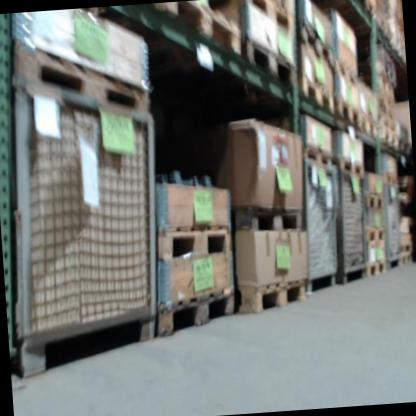pallet: (10, 36, 155, 124), (144, 0, 244, 64), (150, 287, 239, 340), (154, 220, 237, 264), (234, 274, 313, 318), (232, 201, 308, 241), (243, 35, 299, 88), (296, 20, 338, 71), (299, 77, 338, 119), (243, 0, 294, 31), (302, 145, 339, 179), (335, 93, 358, 131), (360, 257, 389, 280), (339, 156, 366, 178), (339, 61, 361, 86), (361, 221, 389, 239), (360, 114, 378, 142), (364, 191, 386, 212), (379, 169, 402, 188), (399, 252, 415, 270), (401, 240, 413, 252)
stillage: (0, 63, 183, 380), (291, 148, 351, 298), (334, 167, 376, 297), (380, 178, 409, 275)
